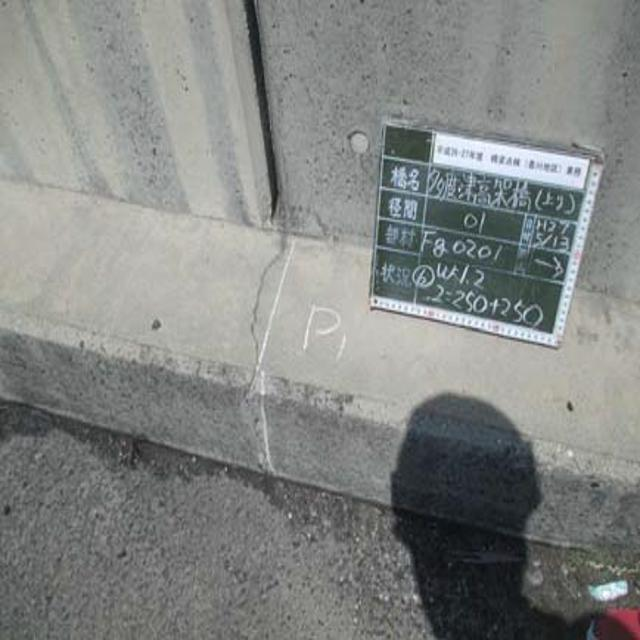crack: (226, 214, 303, 413)
